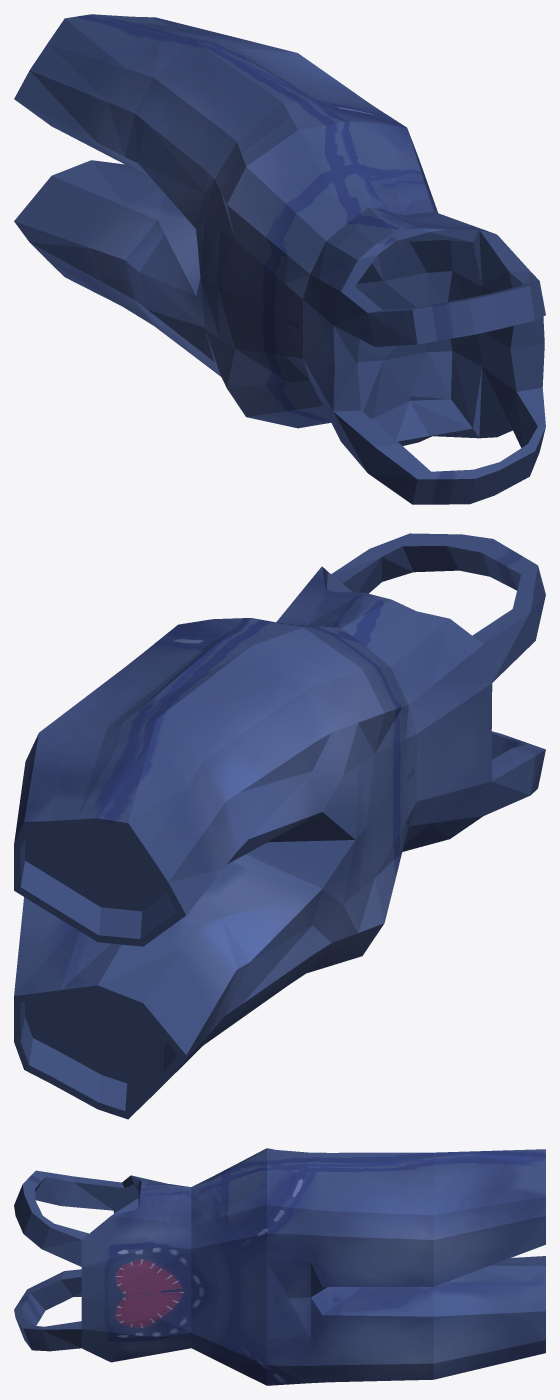
The model's file is Boneless.glb.
3 renders of one model, top to bottom at view 1: azimuth 30°, elevation 25°; view 2: azimuth 150°, elevation 25°; view 3: azimuth 270°, elevation 25°, orthographic. The views are drawn at different scales.
Visible parts, largest first — view 1: Overalls; view 2: Overalls; view 3: Overalls.
Boxes of the visible parts, bbox=[...] form: Overalls: bbox=[14, 14, 545, 504]; Overalls: bbox=[14, 533, 545, 1119]; Overalls: bbox=[14, 1148, 545, 1385].
Size of the model in its own units: 0.2191 by 0.2907 by 0.6404.
1 material, 1 textured.
